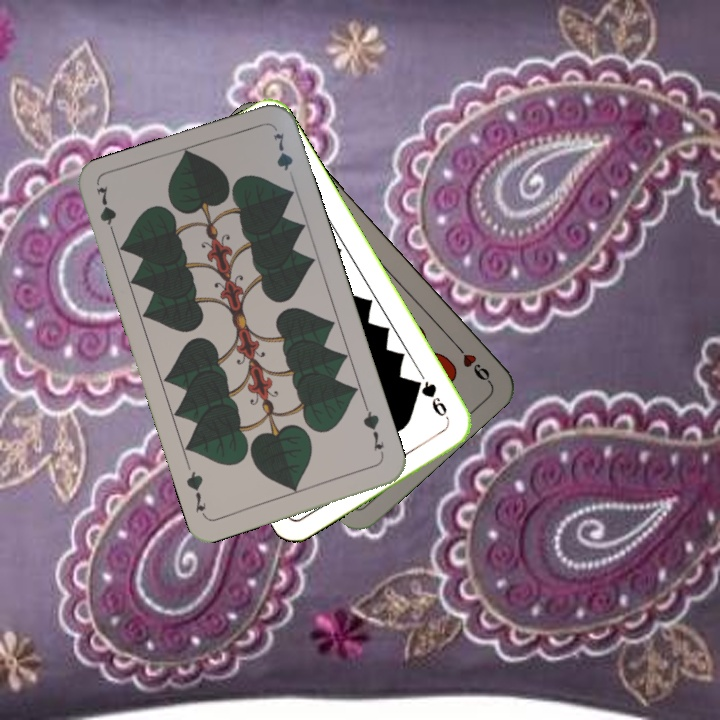G7: (359, 402, 387, 460), (92, 182, 119, 242)
G9: (411, 376, 453, 424)
H9: (449, 337, 493, 385)
